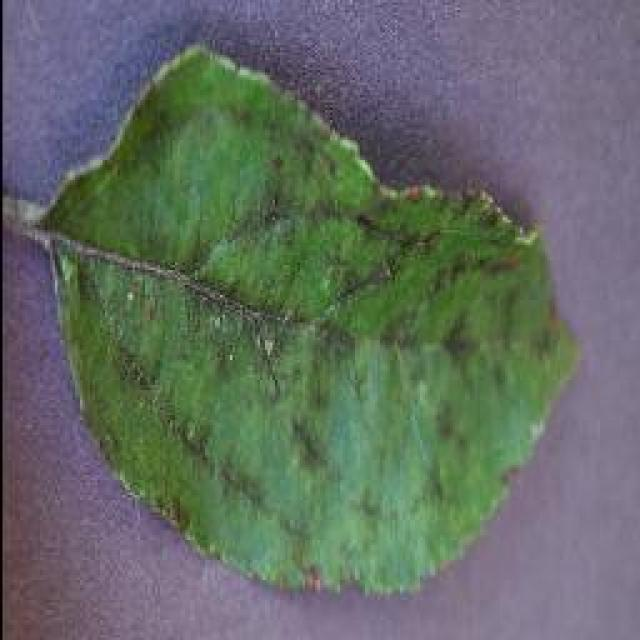apple scab disease: (22, 40, 582, 598)
